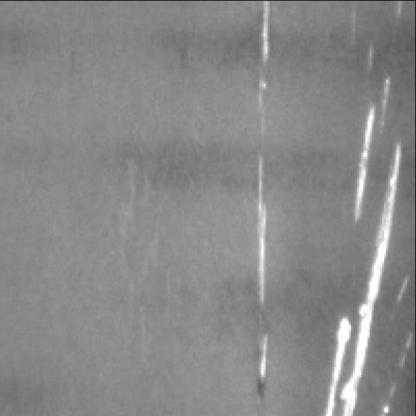scratches: (328, 112, 408, 416), (249, 4, 285, 391)
